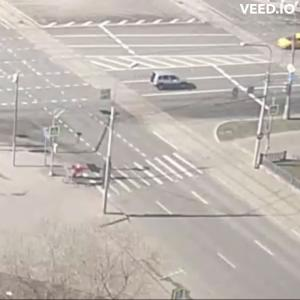car: (151, 74, 197, 92)
